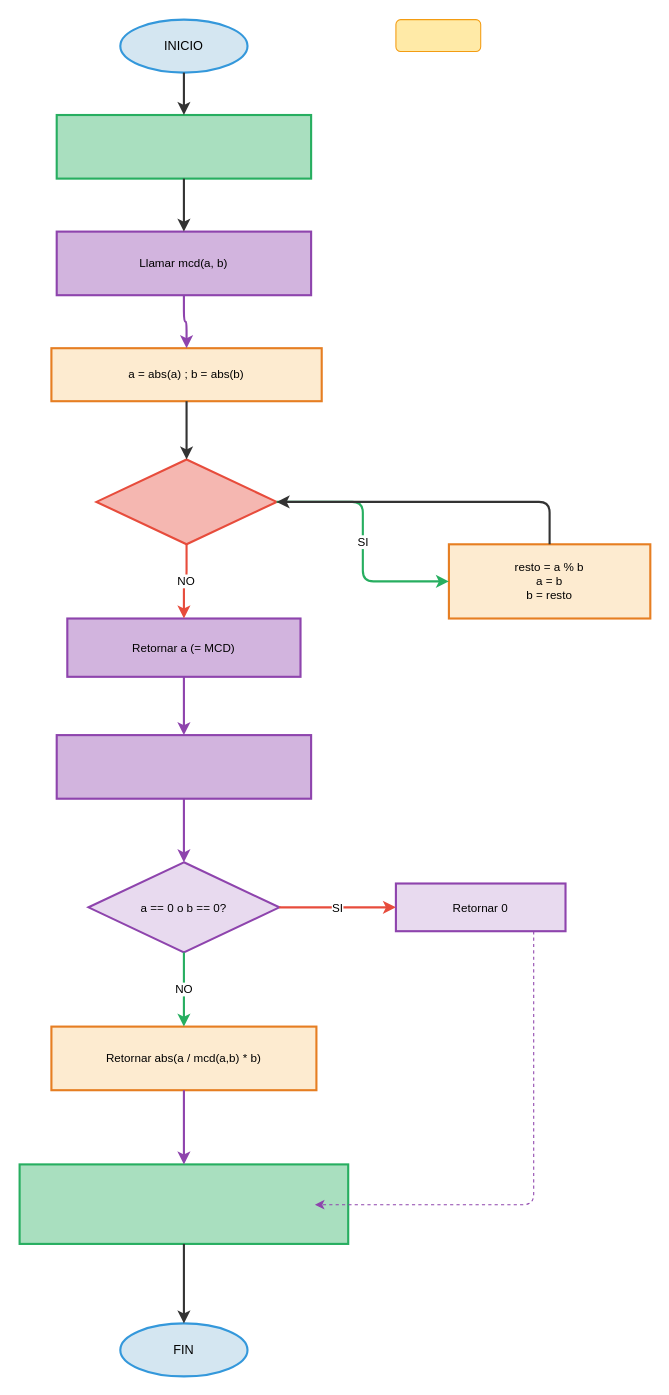
Image size: 669x1395. Some labels were removed from this diagram. Here are the shapes that lost their labels. From the top down, the centre of each, then its label:
At pixel 438 35: "O(log n)".
At pixel 183 146: "Leer a, b".
At pixel 186 501: "b != 0?".
At pixel 183 766: "Llamar mcm(a, b)".
At pixel 183 1203: "Imprimir MCD(a, b) = resultado_mcd MCM(a, b) = resultado_mcm".
